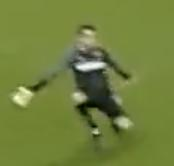goalkeeper: (10, 8, 150, 146)
